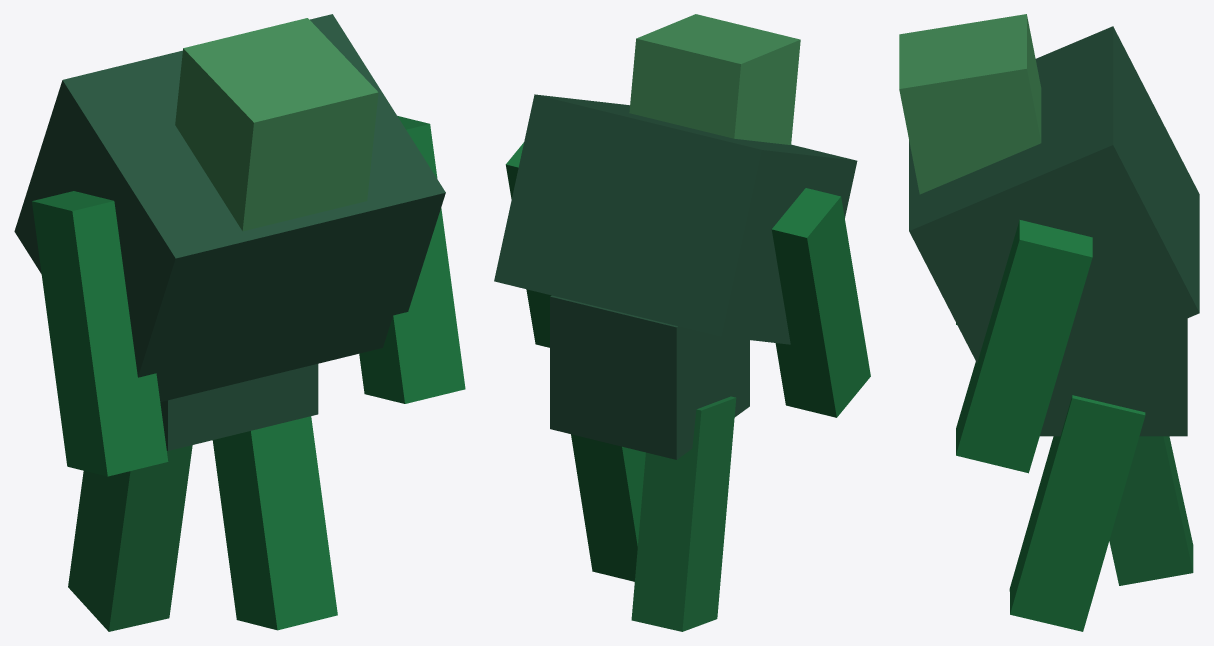
The model's file is Orc_WIP.fbx.
3 views of the same model, side by side, from view 1: azimuth 30°, elevation 25°; view 2: azimuth 150°, elevation 25°; view 3: azimuth 270°, elevation 25° (orthographic). The views are drawn at different scales.
Visible parts, largest first — view 1: Cube.003, Arms, Cube.001, L Leg, R Leg, Cube.002; view 2: Cube.003, Cube.002, Arms, Cube.001, R Leg, L Leg; view 3: Cube.003, Arms, Cube.001, L Leg, Cube.002, R Leg.
Part boxes in pixels (box(x1,y1,x2,y2)): Cube.003: box(14, 14, 445, 401); Arms: box(32, 116, 465, 476); Cube.001: box(175, 18, 378, 231); L Leg: box(212, 416, 337, 630); R Leg: box(68, 445, 192, 631); Cube.002: box(160, 364, 318, 450); Cube.003: box(494, 94, 857, 344); Cube.002: box(550, 295, 749, 459); Arms: box(505, 142, 870, 417); Cube.001: box(629, 14, 800, 144); R Leg: box(631, 396, 736, 631); L Leg: box(571, 434, 645, 581); Cube.003: box(909, 26, 1199, 372); Arms: box(956, 220, 1092, 473); Cube.001: box(899, 14, 1041, 194); L Leg: box(1009, 395, 1145, 631); Cube.002: box(1040, 318, 1187, 436); R Leg: box(1109, 436, 1193, 585).
Bounding box in the file's own units: 591 × 974 × 477.
